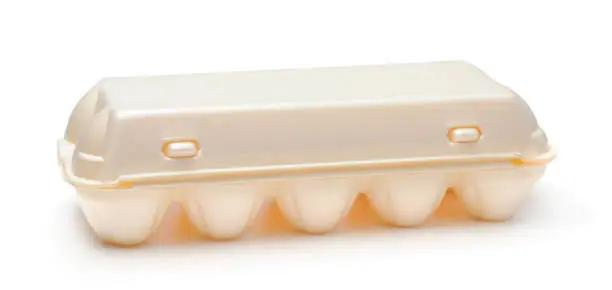glass: (55, 73, 555, 243)
